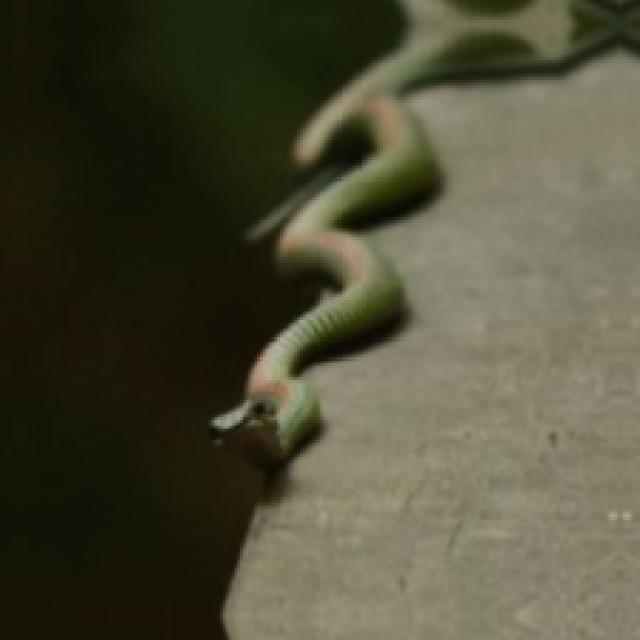paradise tree snake: (211, 0, 637, 460)
